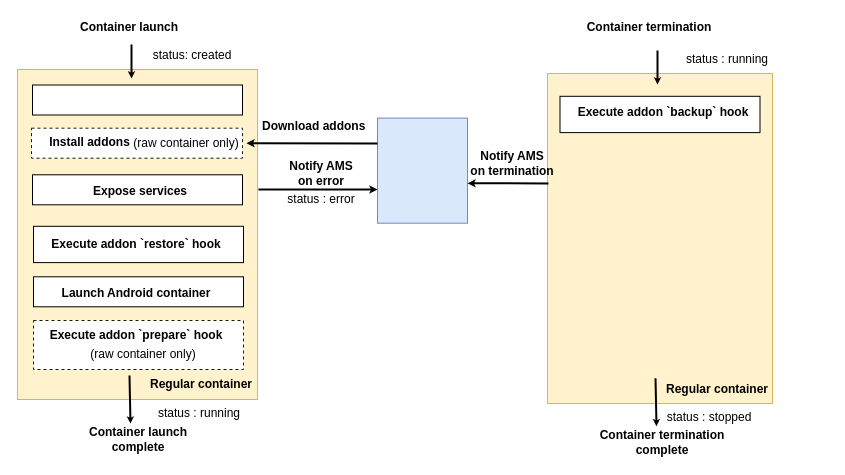
The diagram is 845 pixels wide and 475 high, and some of its shapes have lost their labels. Here are the shapes that lost their labels. From the top down, the centre of each, then its label:
At [137,99]: "Configure Network".
At [422,170]: "AMS".
